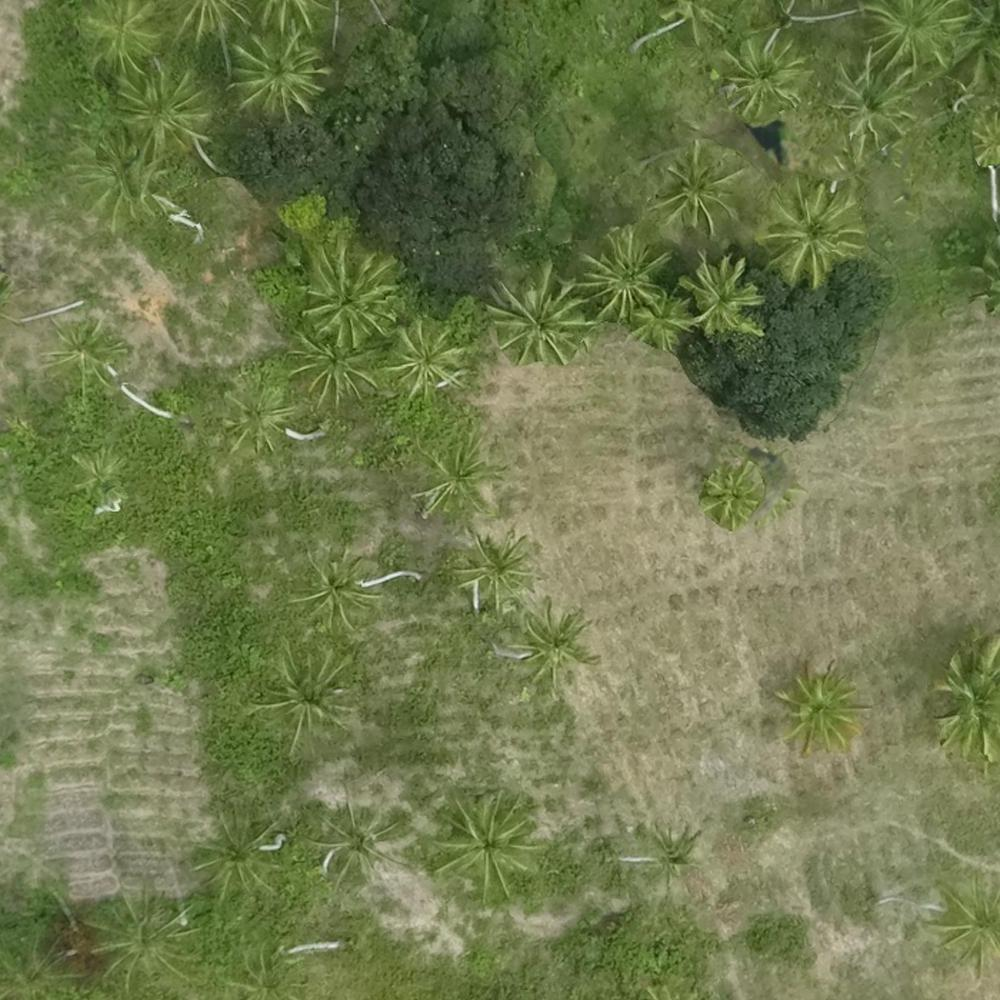Palm: (249, 643, 357, 751), (755, 181, 861, 281), (436, 793, 535, 897), (301, 243, 401, 343), (486, 265, 586, 365), (775, 660, 875, 757), (309, 792, 409, 886), (183, 812, 283, 901), (228, 29, 326, 117), (826, 55, 917, 149), (114, 64, 212, 151), (407, 431, 500, 521), (718, 33, 813, 116), (651, 149, 747, 229), (380, 318, 468, 404), (580, 232, 666, 318), (504, 610, 594, 692), (288, 328, 380, 407), (293, 547, 376, 632), (678, 257, 766, 336), (213, 376, 297, 454), (43, 318, 122, 400), (453, 532, 533, 608), (79, 1, 161, 71), (642, 810, 710, 893), (697, 460, 765, 527), (625, 293, 698, 354)
